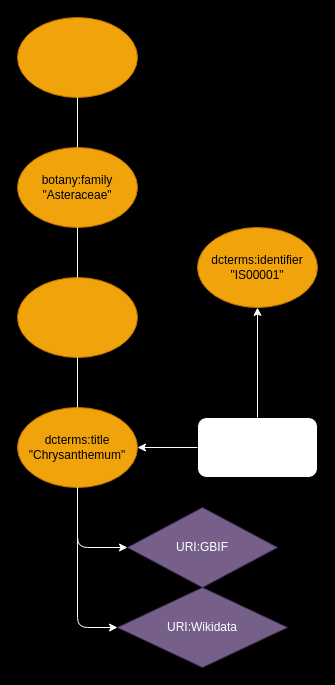
Image size: 335x685. Some labels were removed from this diagram. Each missing label, with the centre of its shape:
botany:genus "Chrysanthemum": [77,317]
botany:order "Asterales: [77,57]
Itemset: [257,447]
